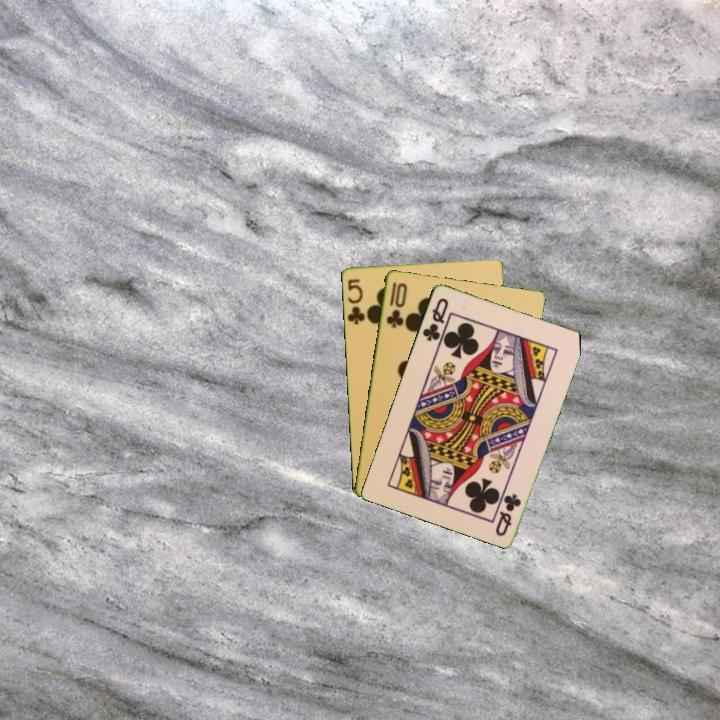10c: (382, 278, 410, 331)
5c: (344, 275, 369, 327)
Qc: (491, 490, 524, 539), (419, 294, 451, 344)
